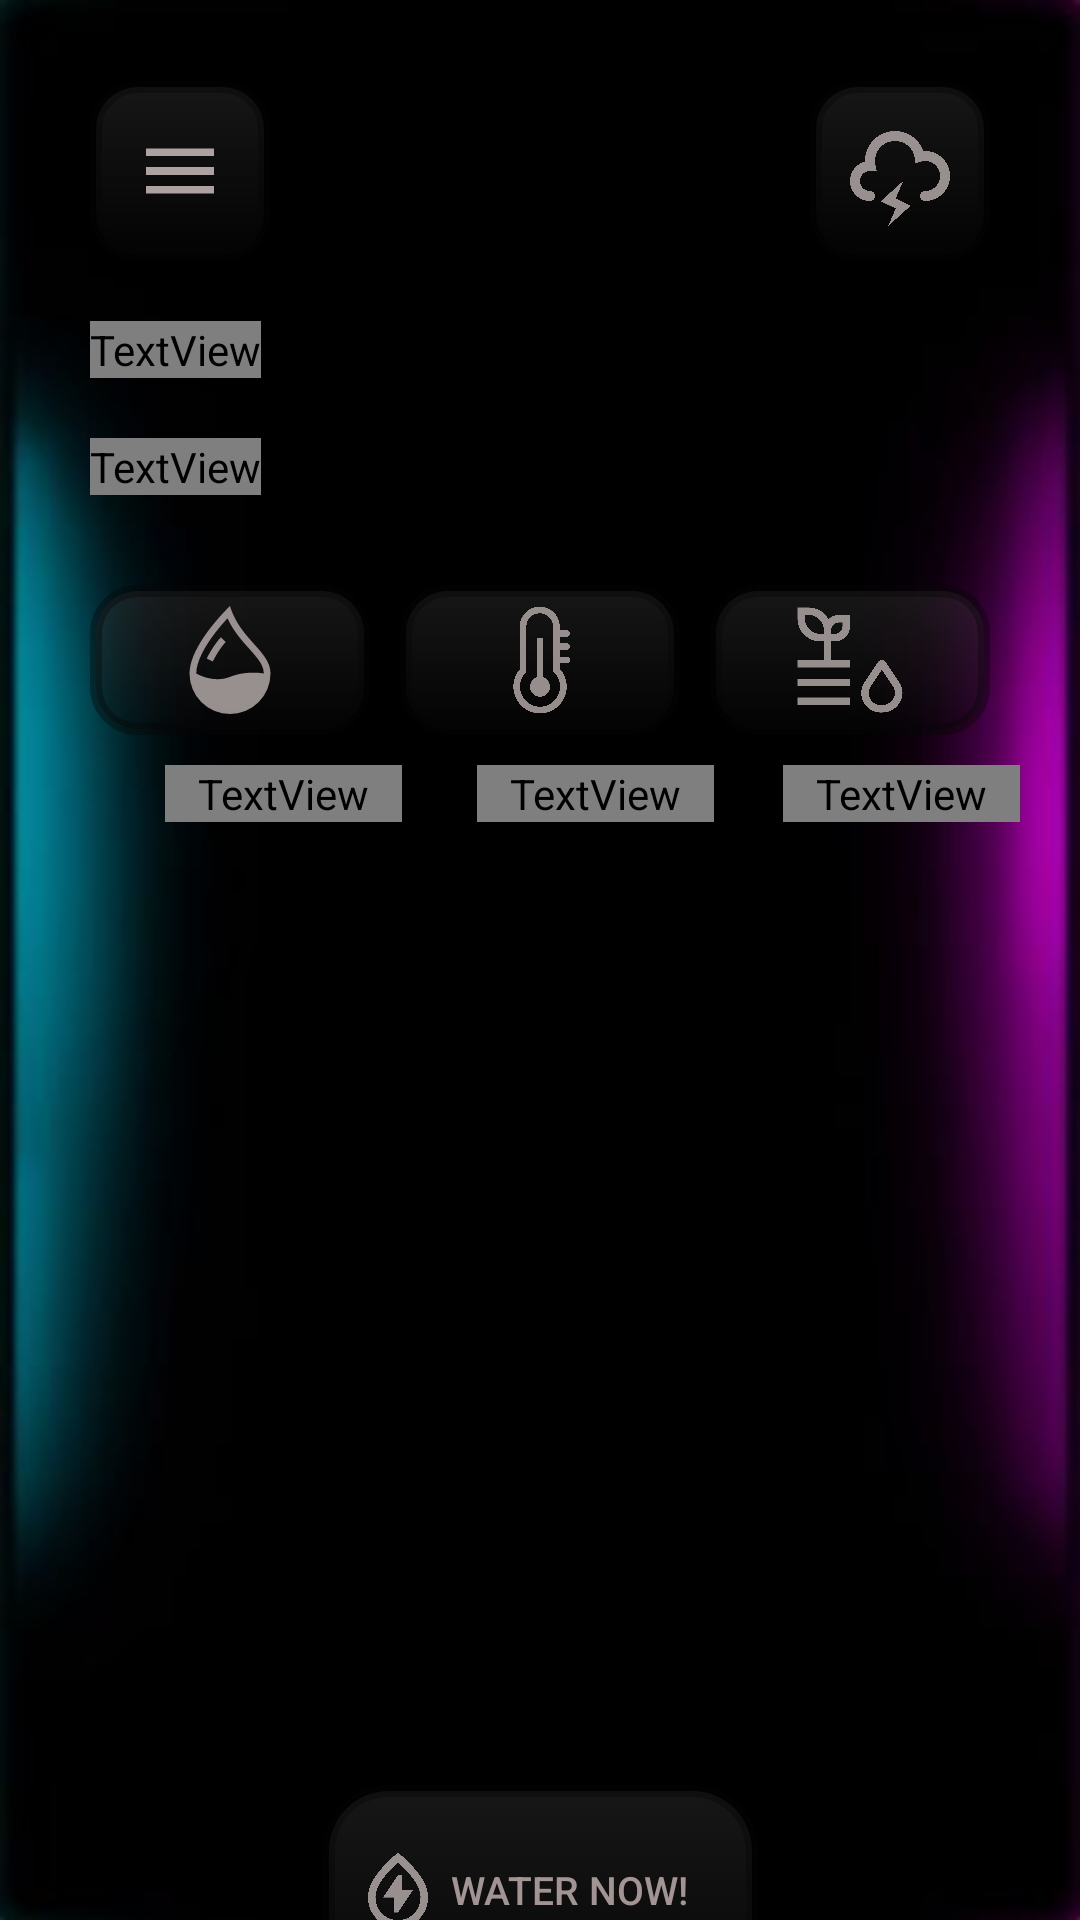

Screen size 1080 × 1920. Icon name, then its box in pixels as (x1, y1, x2, y2):
menu: (146, 148, 214, 194)
soil moisture field: (716, 585, 990, 735)
thermometer line: (406, 591, 674, 713)
weather stormy: (816, 87, 984, 226)
